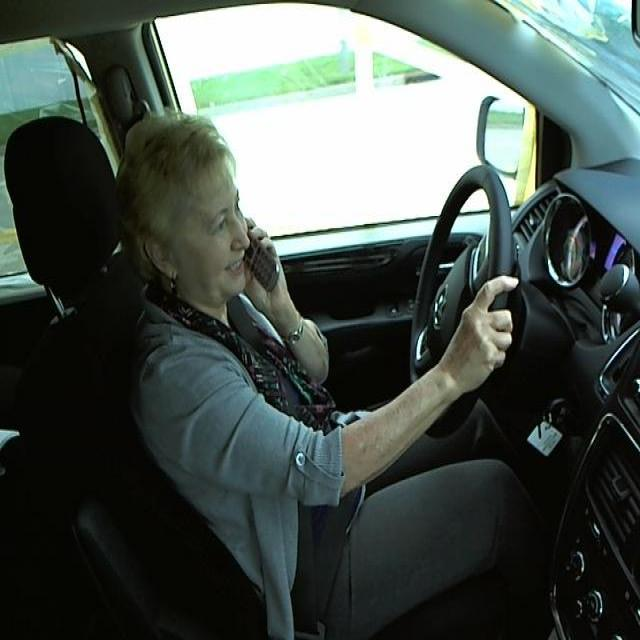using_phone: (112, 97, 289, 357)
